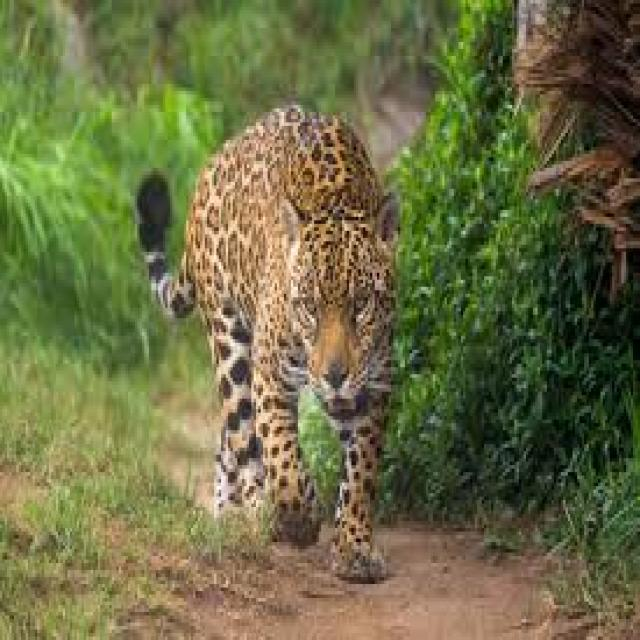Jaguar: (137, 105, 398, 584)
